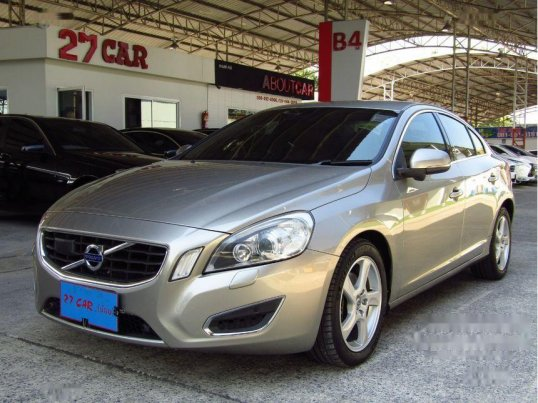sedan: (33, 98, 517, 367)
